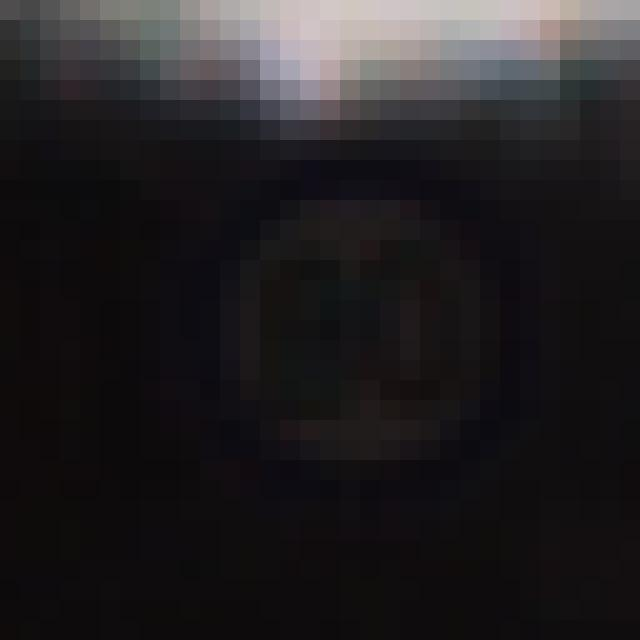SPEED-LIMIT-80: (201, 191, 501, 494)
